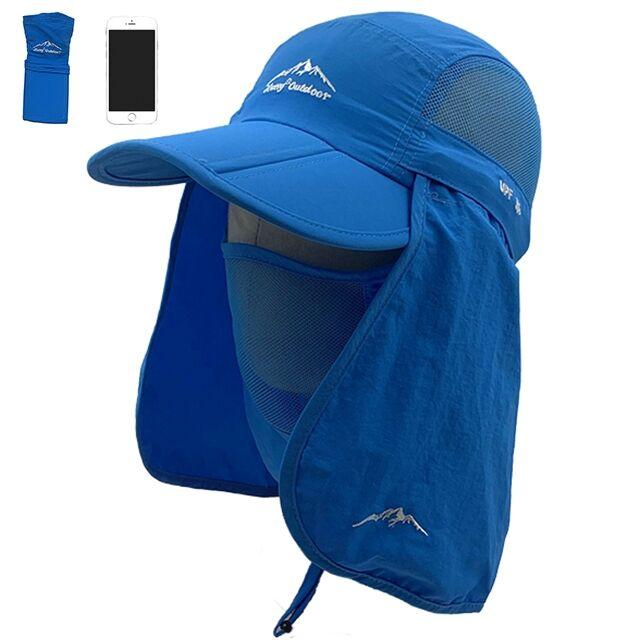mask: (94, 29, 587, 295)
